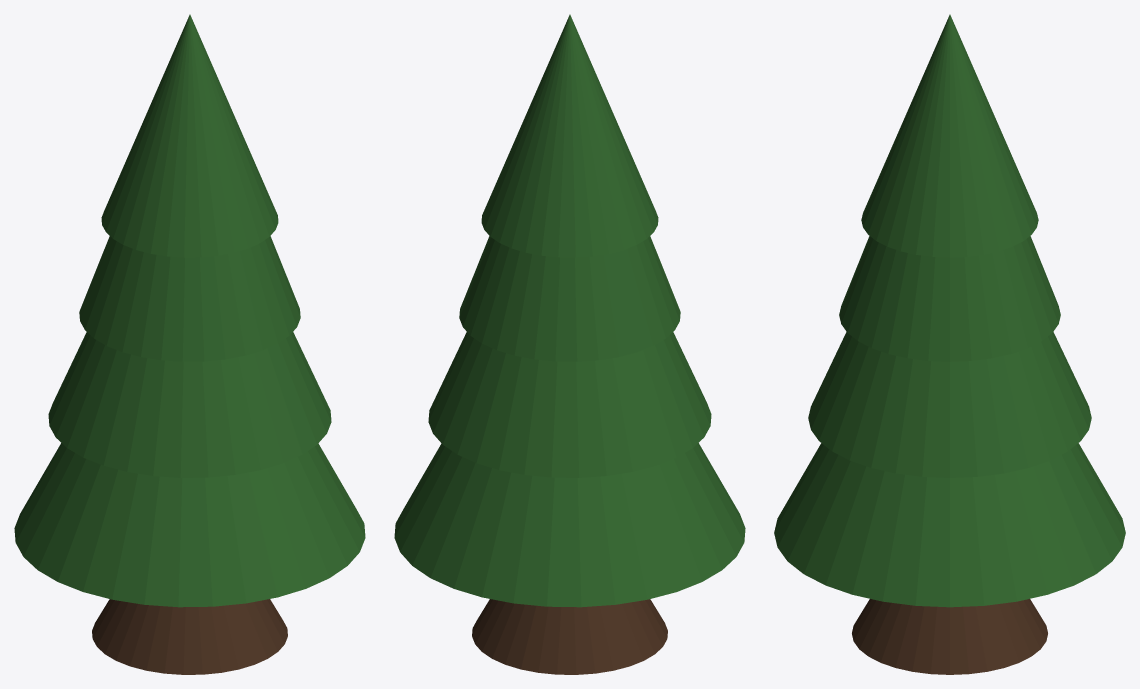
File: SpruceTree.fbx
3 views of the same model, side by side, from view 1: azimuth 30°, elevation 25°; view 2: azimuth 150°, elevation 25°; view 3: azimuth 270°, elevation 25° (orthographic).
Visible parts, largest first — view 1: Cone; view 2: Cone; view 3: Cone.
Part boxes in pixels (left/top/right/bottom): Cone: left=14, top=14, right=365, bottom=674; Cone: left=394, top=14, right=745, bottom=674; Cone: left=774, top=14, right=1125, bottom=674.
Bounding box in the file's own units: 244 × 475 × 244.
